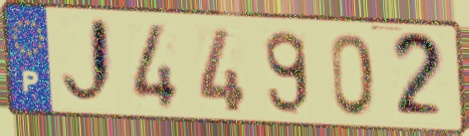0: (329, 32, 377, 118)
2: (387, 29, 454, 127)
4: (195, 22, 249, 115), (130, 21, 181, 112)
9: (262, 28, 311, 116)
J: (58, 14, 119, 112)
